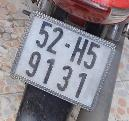1: (70, 67, 91, 103), (39, 55, 59, 89)
2: (45, 20, 67, 57)
3: (53, 62, 76, 95)
5: (80, 36, 103, 73), (31, 16, 55, 51)
9: (22, 47, 44, 81)
H: (68, 30, 91, 68)
